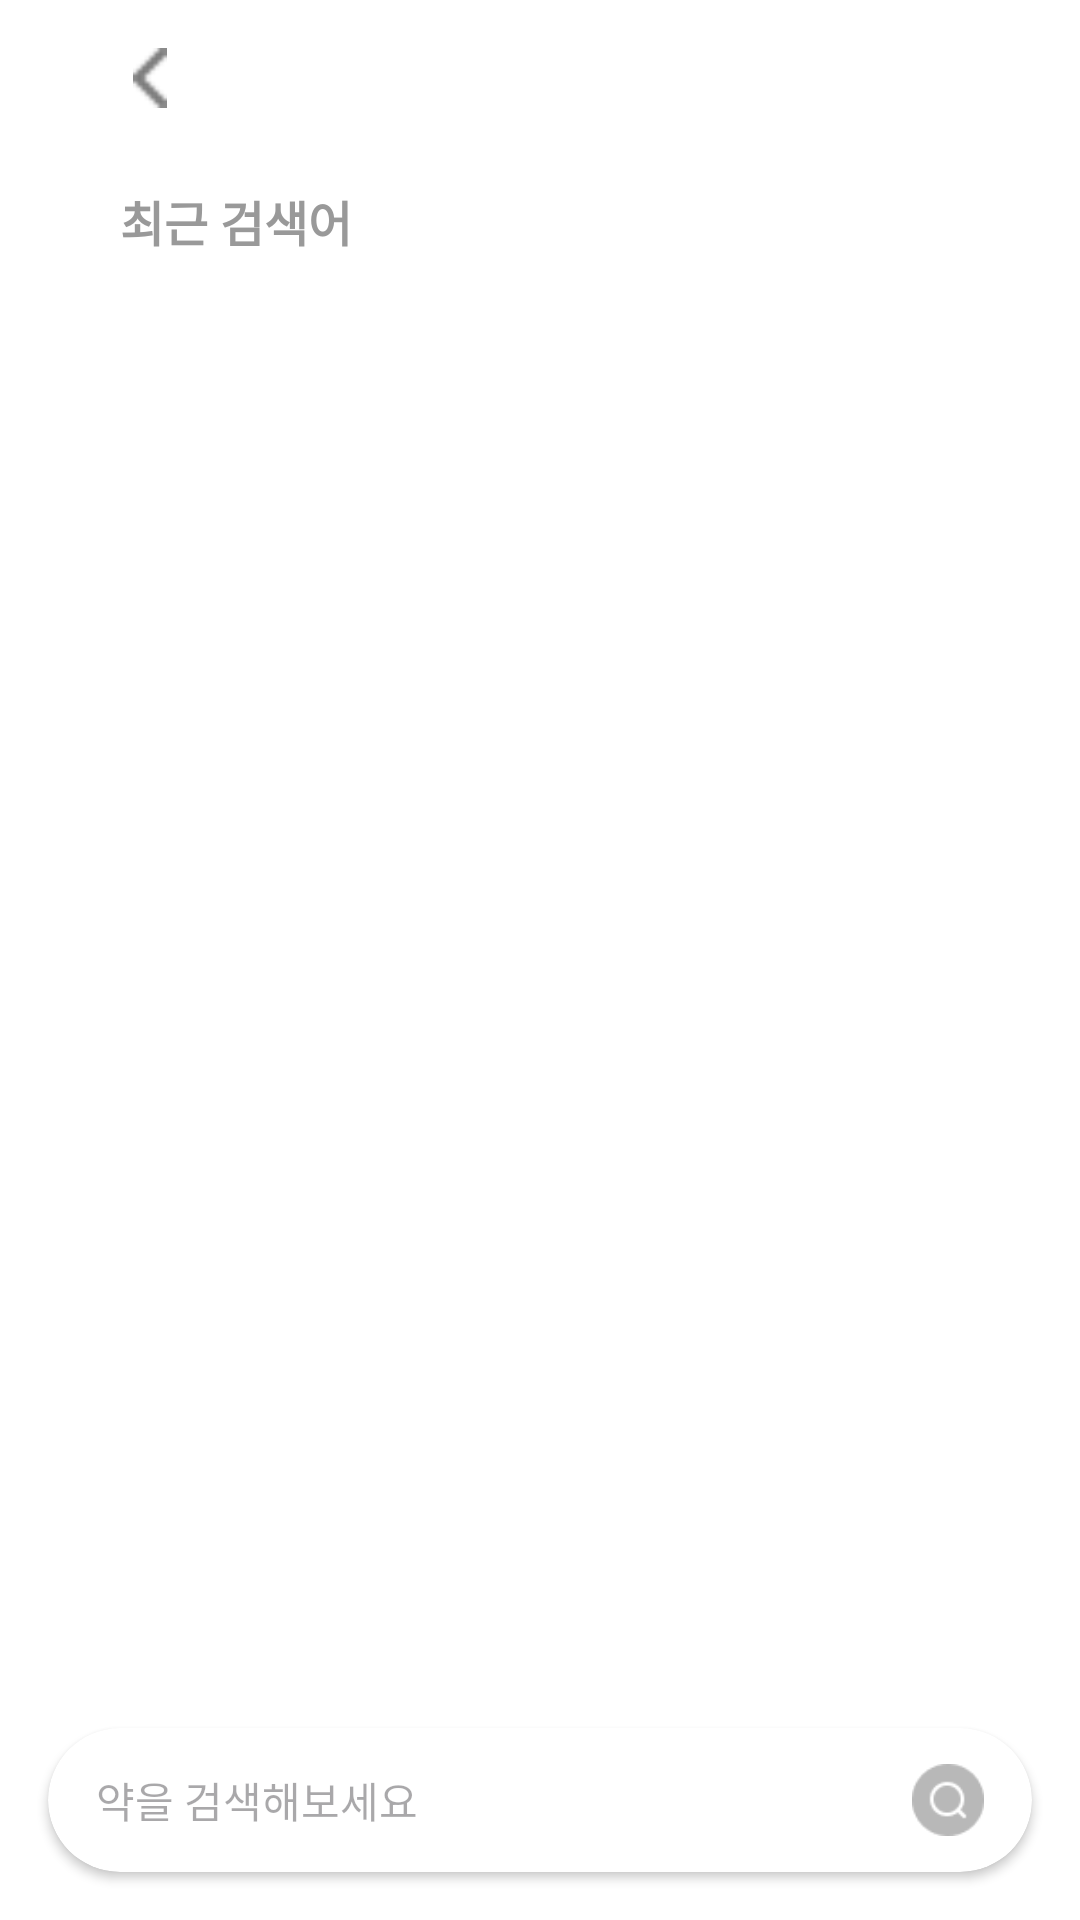

Named icons in this screenshot (1080×1920) and their centers, (x=x, y=y):
검색 아이콘: (x=948, y=1800)
뒤로가기: (x=150, y=78)
